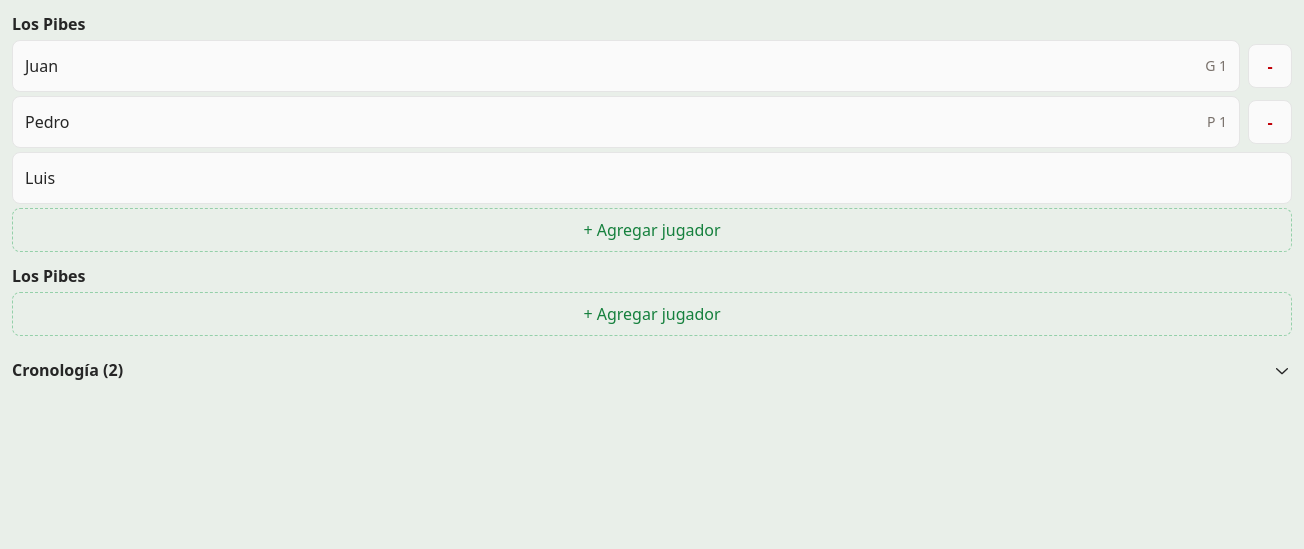
Test: CargaVivo compacta › cronología colapsada sigue expandible y es de solo lectura
This screenshot has width=1304, height=549.
Click the button "Cronología (2)". click: click(68, 370)
box: left=12, top=348, right=1292, bottom=392
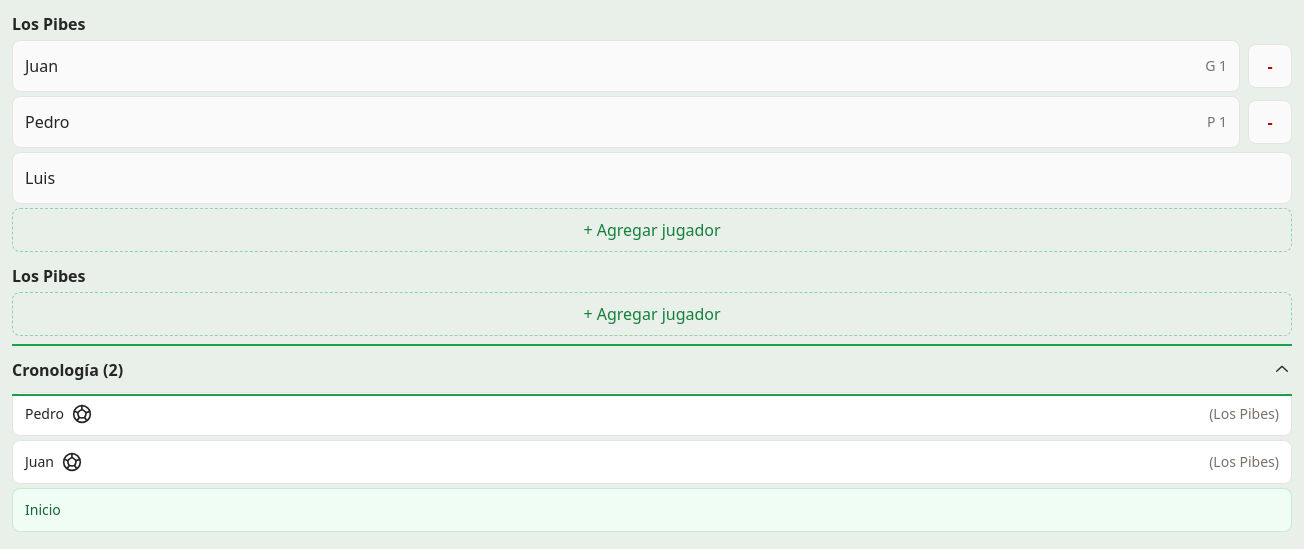
Check: the list item with aria-label "Penal de Pedro" is shown, box left=12, top=392, right=1292, bottom=436
Check: the list item with aria-label "Gol de Juan" is shown, box left=12, top=440, right=1292, bottom=484
